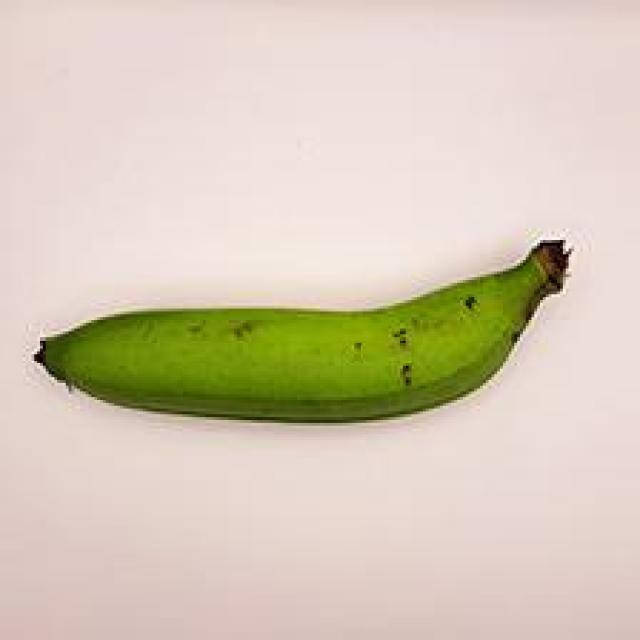Raw: (21, 206, 590, 460)
